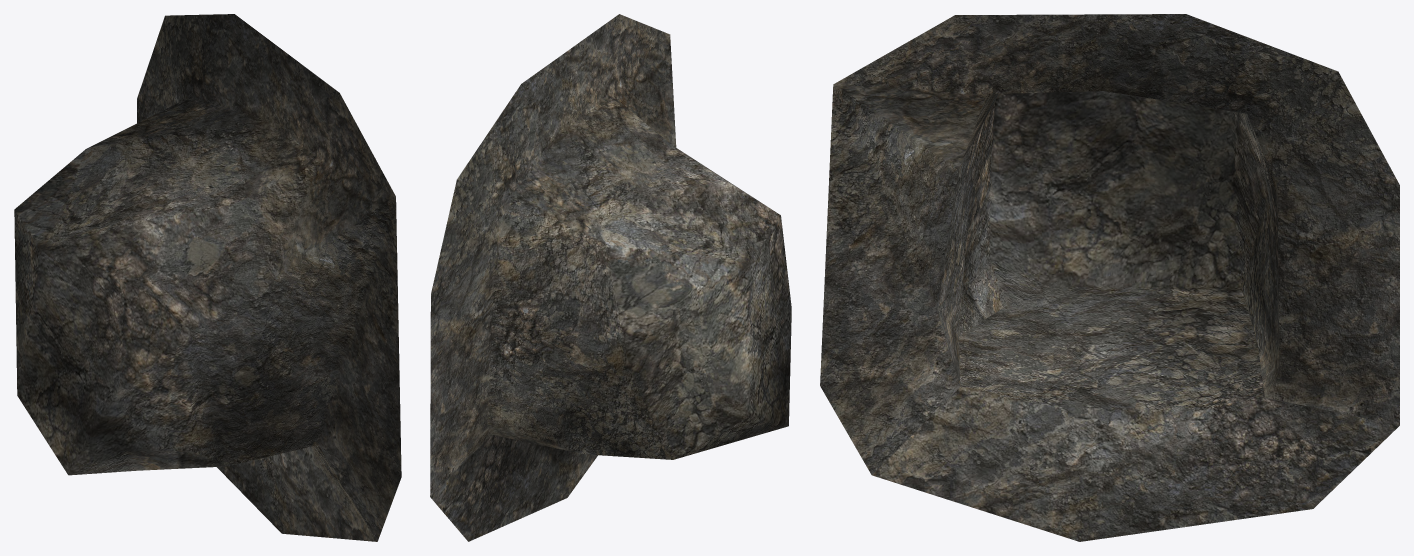
The model's file is CaveEnd.fbx.
3 views of the same model, side by side, from view 1: azimuth 30°, elevation 25°; view 2: azimuth 150°, elevation 25°; view 3: azimuth 270°, elevation 25° (orthographic). The views are drawn at different scales.
Parts seen in each view (by area): view 1: CaveEnd:CaveEnd:CaveEnd; view 2: CaveEnd:CaveEnd:CaveEnd; view 3: CaveEnd:CaveEnd:CaveEnd.
Part boxes in pixels (x1,y1,x2,y2): CaveEnd:CaveEnd:CaveEnd: [14, 14, 401, 541]; CaveEnd:CaveEnd:CaveEnd: [430, 14, 791, 541]; CaveEnd:CaveEnd:CaveEnd: [820, 14, 1399, 541].
Bounding box in the file's own units: 34.23 × 67.74 × 67.33.
